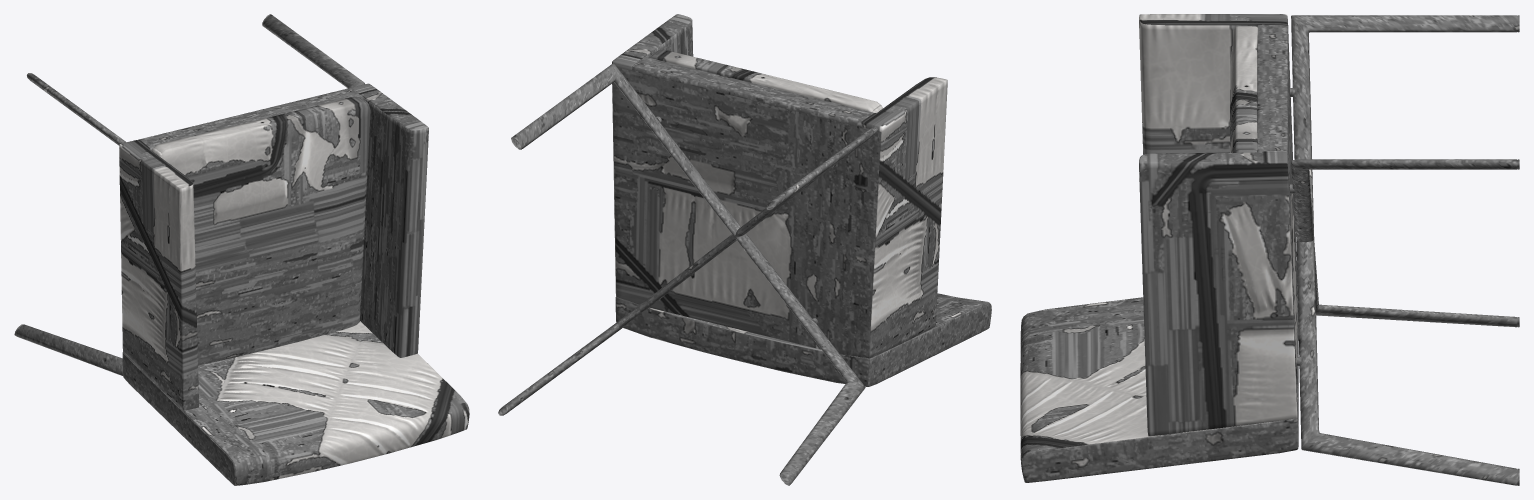
3 views of the same model, side by side, from view 1: azimuth 30°, elevation 25°; view 2: azimuth 150°, elevation 25°; view 3: azimuth 270°, elevation 25° (orthographic). The views are drawn at different scales.
Size of the model in its own units: 0.6 by 0.5817 by 0.7857.
